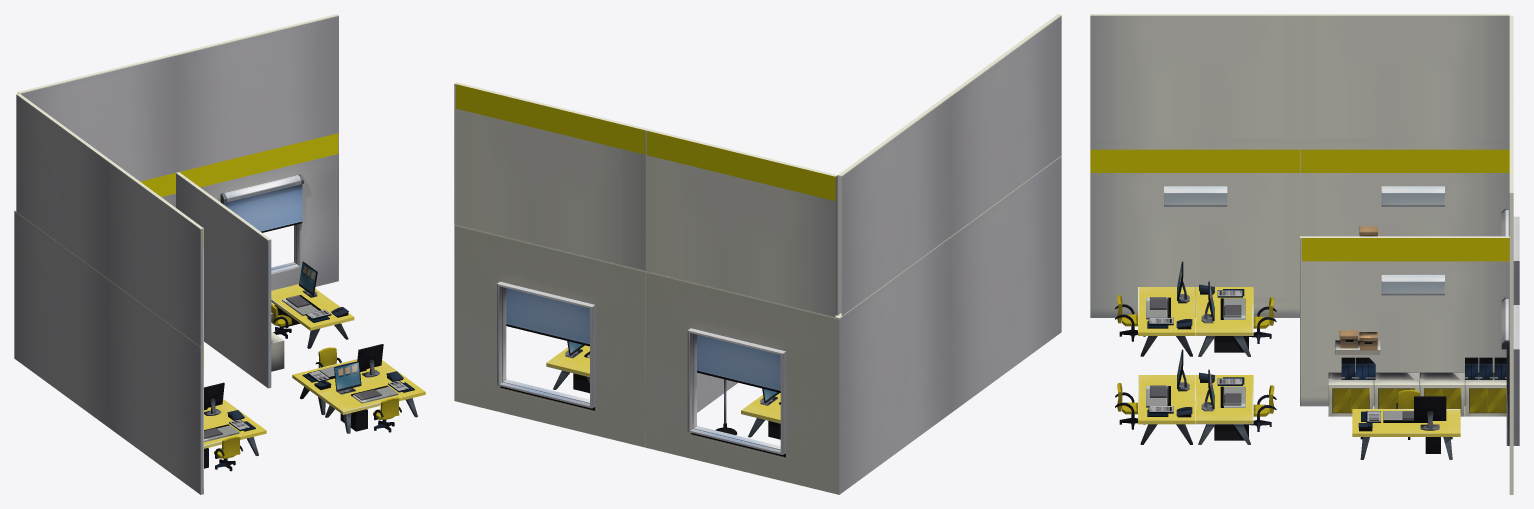
Rendered from office_test.fbx.
3 views of the same model, side by side, from view 1: azimuth 30°, elevation 25°; view 2: azimuth 150°, elevation 25°; view 3: azimuth 270°, elevation 25° (orthographic). The views are drawn at different scales.
Parts seen in each view (by area): view 1: wall_and_prop, table_prop_05, table_prop_02, table_prop_04, table_prop_06, table_prop_03; view 2: wall_and_prop, table_prop_01, table_prop_02; view 3: wall_and_prop, table_prop_02, table_prop_04, table_prop_03, table_prop_05, table_prop_06, AC_02, AC_01.
Boxes of the visible parts, x1,y1,x2,y2 form: wall_and_prop: (14,14,338,494); table_prop_05: (317,361,425,433); table_prop_02: (271,261,354,348); table_prop_04: (292,344,399,414); table_prop_06: (204,410,266,471); table_prop_03: (204,382,240,420); wall_and_prop: (454,14,1061,494); table_prop_01: (697,334,780,439); table_prop_02: (546,341,589,393); wall_and_prop: (1090,14,1519,494); table_prop_02: (1352,390,1460,459); table_prop_04: (1196,369,1276,444); table_prop_03: (1196,281,1276,356); table_prop_05: (1115,349,1195,444); table_prop_06: (1115,261,1195,356); AC_02: (1164,186,1227,206); AC_01: (1381,186,1444,206).
Size of what is drawn, in the model's own units: 44.93 by 35.38 by 45.57.
